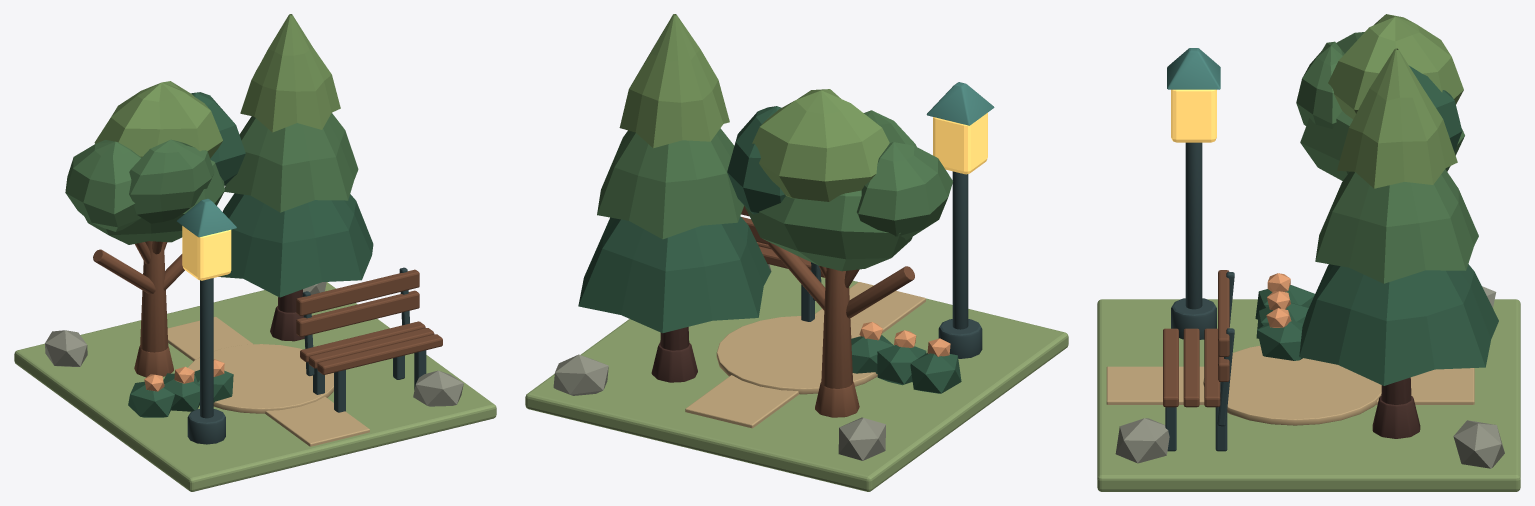
The model's file is park.glb.
3 renders of one model, left to right at view 1: azimuth 30°, elevation 25°; view 2: azimuth 150°, elevation 25°; view 3: azimuth 270°, elevation 25°, orthographic. The views are drawn at different scales.
Visible parts, largest first — view 1: park · grass_light, park · leaf, park · leaf_dark, park · wood_light, park · leaf_light, park · path, park · metal, park · stone, park · lantern, park · copper, park · wood, park · flower; view 2: park · grass_light, park · leaf, park · leaf_dark, park · leaf_light, park · path, park · wood_light, park · metal, park · stone, park · lantern, park · wood, park · copper, park · flower; view 3: park · grass_light, park · leaf_dark, park · leaf, park · leaf_light, park · path, park · metal, park · wood_light, park · stone, park · lantern, park · wood, park · copper, park · flower.
Boxes of the visible parts, x1,y1,x2,y2 form: park · grass_light: (14, 282, 496, 491); park · leaf: (65, 113, 358, 244); park · leaf_dark: (128, 92, 373, 417); park · wood_light: (93, 241, 442, 377); park · leaf_light: (94, 14, 340, 158); park · path: (167, 316, 369, 446); park · metal: (187, 267, 426, 444); park · stone: (45, 282, 463, 406); park · lantern: (182, 226, 231, 280); park · copper: (176, 198, 236, 237); park · wood: (270, 289, 304, 341); park · flower: (144, 359, 224, 391); park · grass_light: (525, 264, 1068, 491); park · leaf: (597, 110, 952, 271); park · leaf_dark: (578, 106, 961, 393); park · leaf_light: (619, 14, 889, 201); park · path: (685, 282, 925, 428); park · wood_light: (741, 206, 914, 417); park · metal: (801, 171, 982, 358); park · stone: (553, 264, 885, 460); park · lantern: (933, 112, 987, 174); park · wood: (651, 327, 697, 382); park · copper: (926, 82, 994, 125); park · flower: (859, 322, 950, 356); park · grass_light: (1097, 299, 1520, 491); park · leaf_dark: (1255, 65, 1498, 385); park · leaf: (1296, 32, 1478, 283); park · leaf_light: (1328, 14, 1463, 188); park · path: (1106, 345, 1474, 425); park · metal: (1165, 142, 1234, 451); park · wood_light: (1163, 270, 1229, 407); park · stone: (1115, 286, 1504, 468); park · lantern: (1171, 89, 1216, 142); park · wood: (1372, 377, 1420, 438); park · copper: (1167, 48, 1220, 89); park · flower: (1266, 273, 1291, 327).
Size of the model in its own units: 0.9213 by 0.9508 by 0.92.
